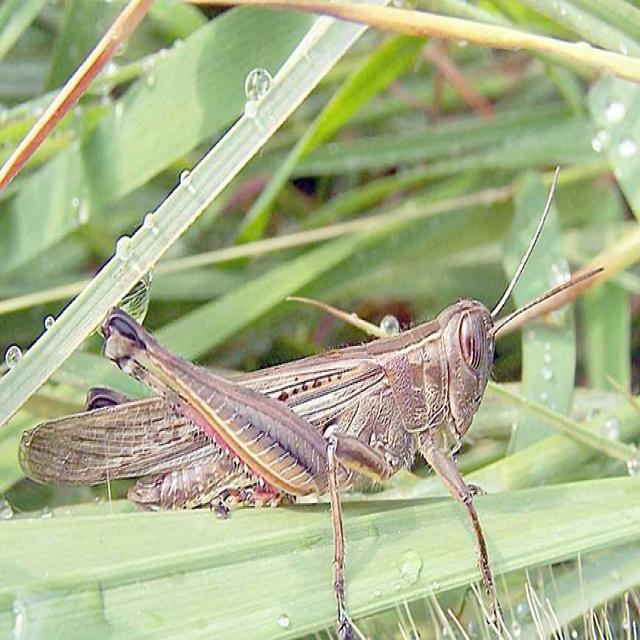ZhaMeng: (15, 286, 517, 530)
